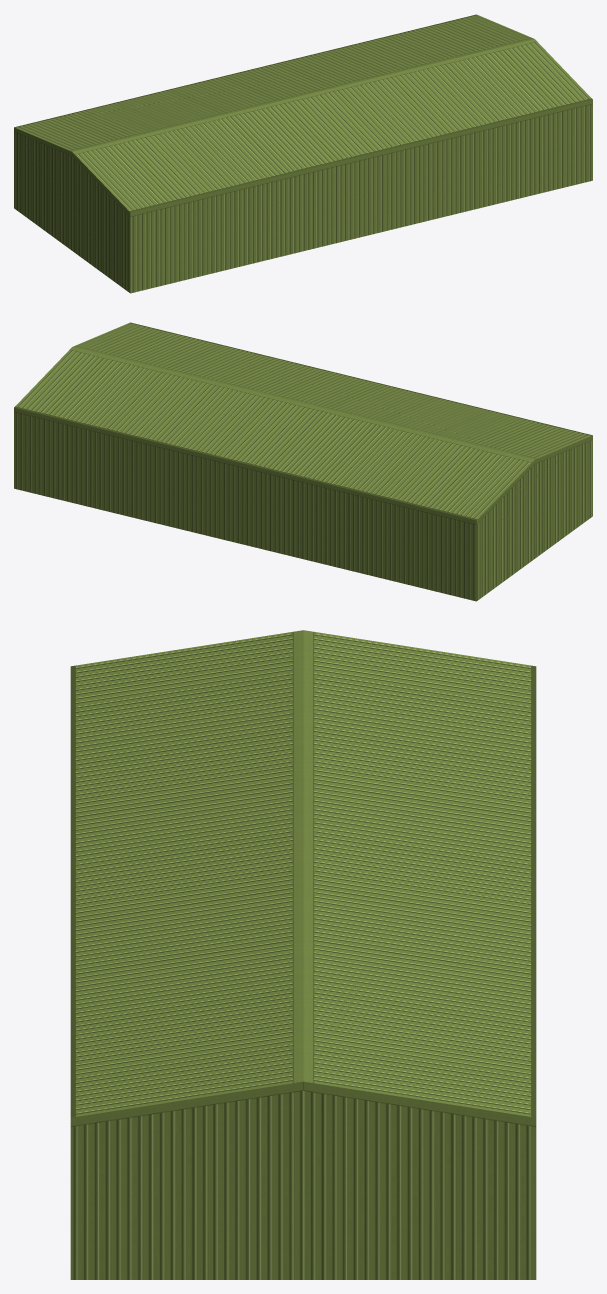
File: hangar-side-door-26x11x4-green-cbj_LOD01.gltf
3 renders of one model, top to bottom at view 1: azimuth 30°, elevation 25°; view 2: azimuth 150°, elevation 25°; view 3: azimuth 270°, elevation 25°, orthographic. The views are drawn at different scales.
Parts seen in each view (by area): view 1: hangar-side-d01; view 2: hangar-side-d01; view 3: hangar-side-d01.
Boxes of the visible parts, x1,y1,x2,y2 form: hangar-side-d01: (14, 14, 592, 293); hangar-side-d01: (14, 322, 592, 601); hangar-side-d01: (70, 630, 536, 1279).
Bounding box in the file's own units: 25.7 × 5.26 × 11.2.
